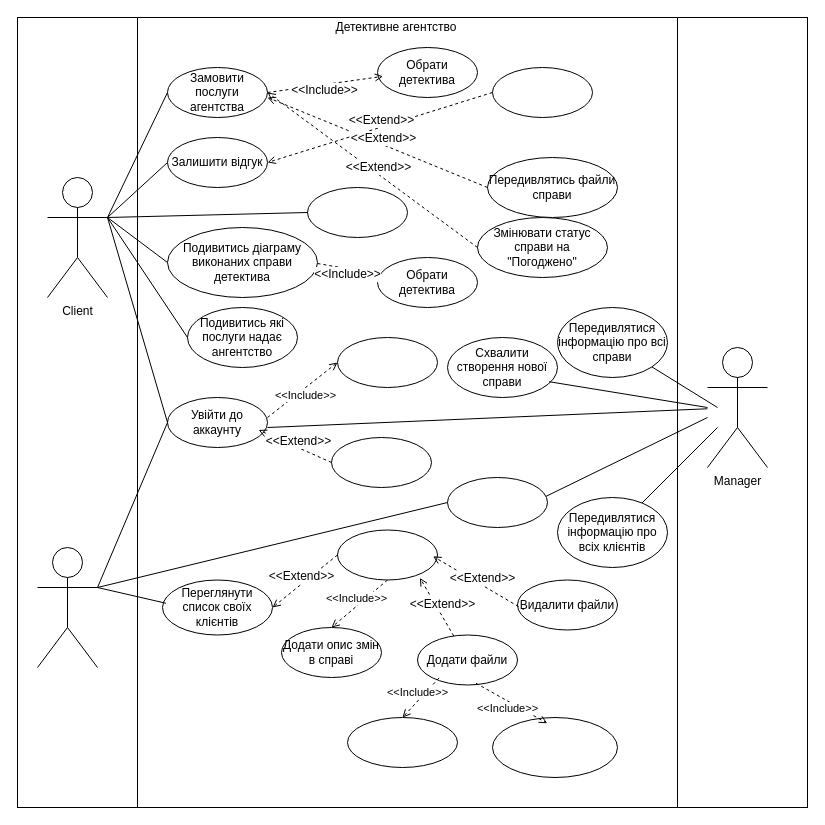
Some shapes in this 825 by 825 pixel diagram are drawn without their labels. Each missing label, with the centre of its shape:
Detective: pixel 67 607
Вийти з аккаунту: pixel 387 362
Зареєструватися: pixel 381 462
Змінювати графік: pixel 497 502
Написати опис файла: pixel 402 742
Обрати файл, який додасться: pixel 555 747
Переглянути відгуки: pixel 542 92
Прочитати інформацію про агентство: pixel 357 212
Редагувати справу клієнта: pixel 387 554
